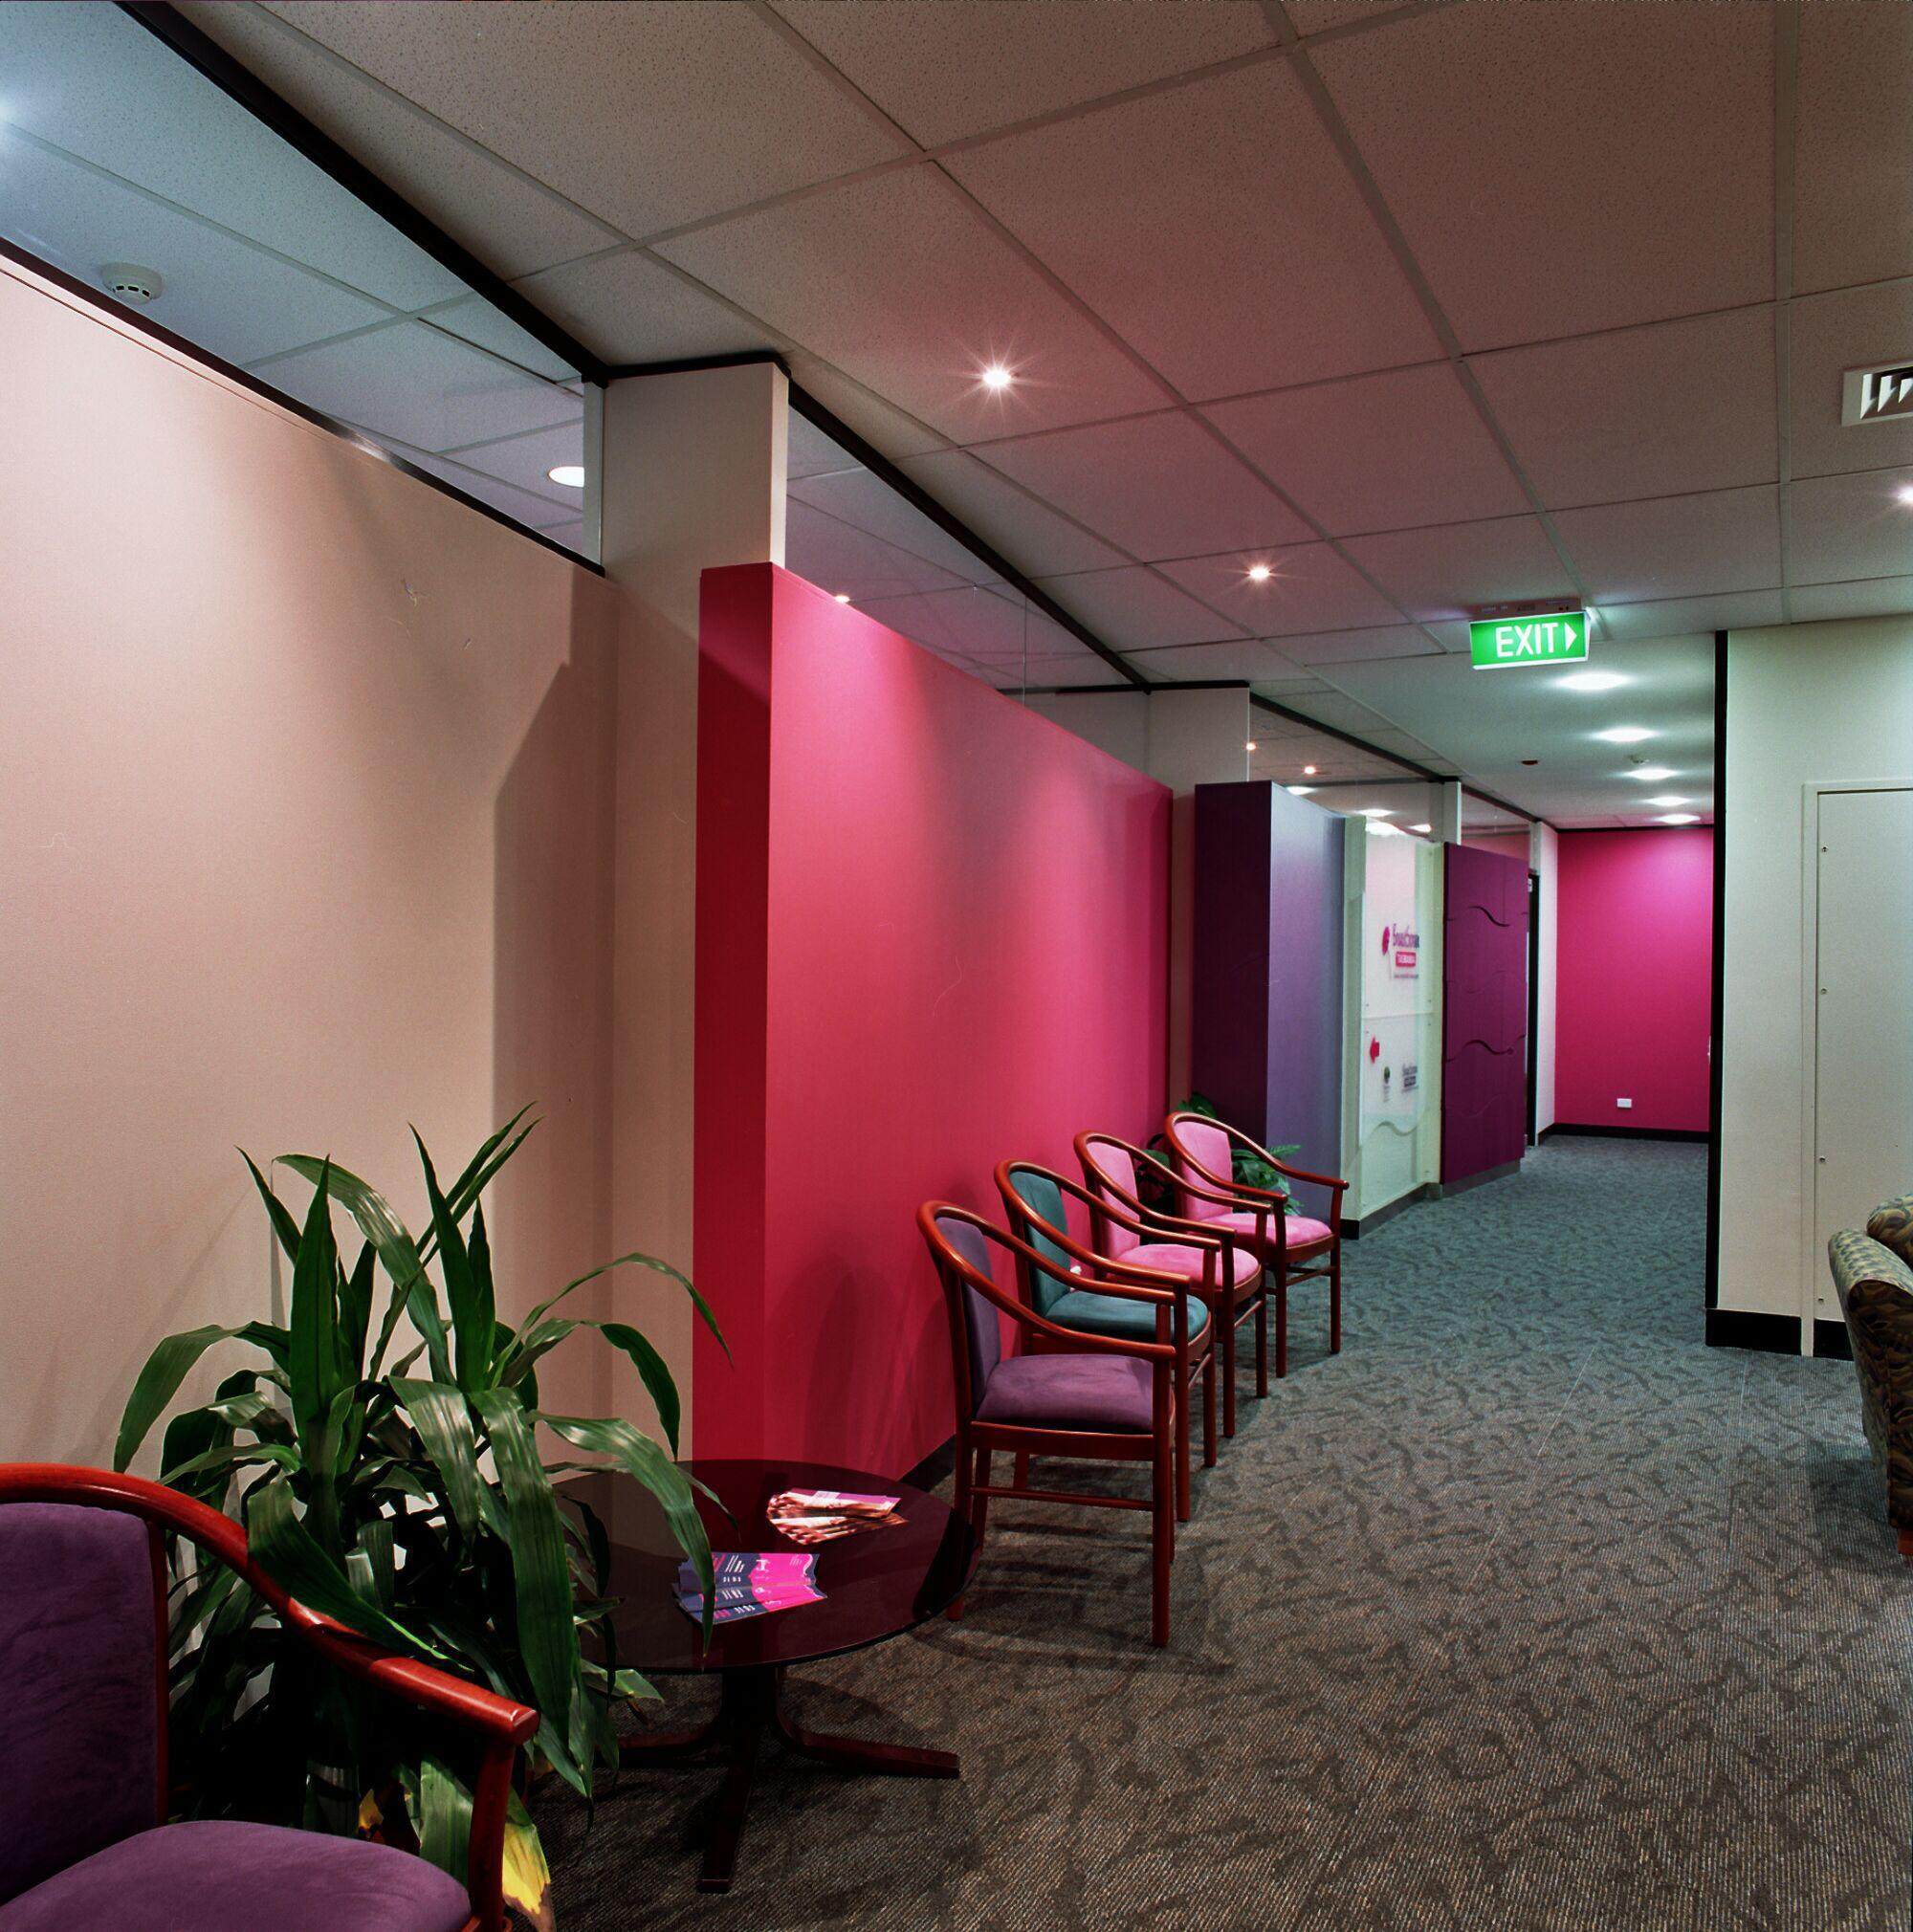Matera: (133, 1123, 706, 1920)
Puerta: (1813, 751, 1897, 1349)
